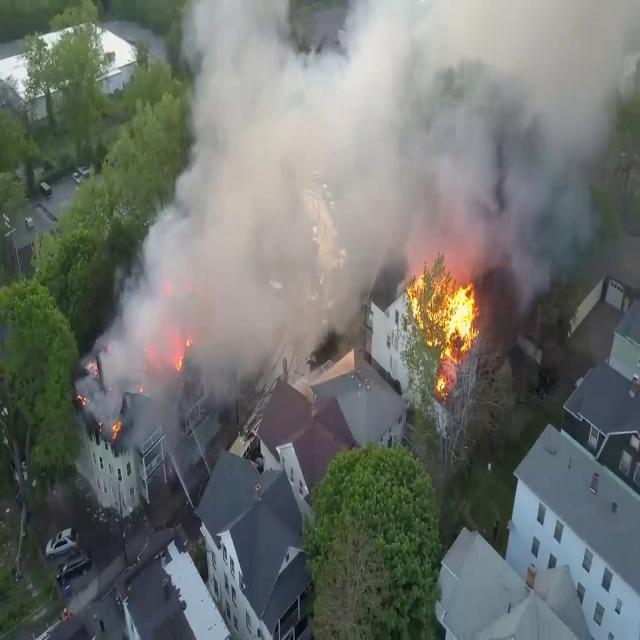Fire: (403, 256, 481, 379)
Smoke: (93, 0, 639, 299)
